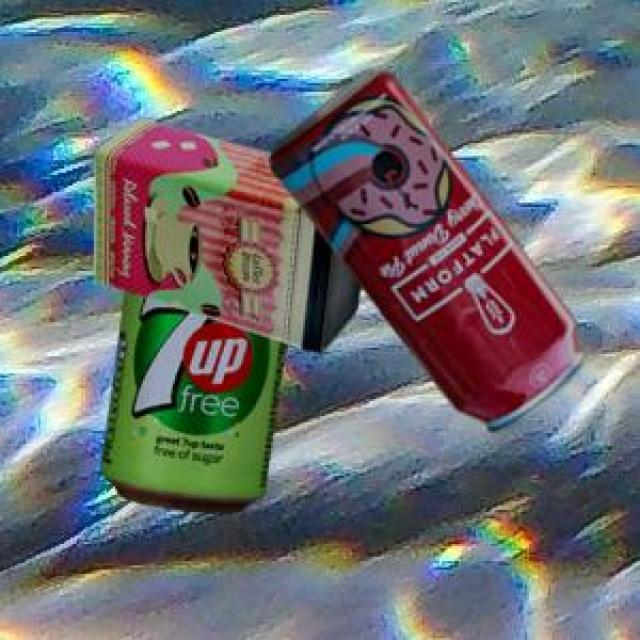Can: (268, 67, 583, 428), (91, 116, 357, 351), (97, 287, 283, 511)
